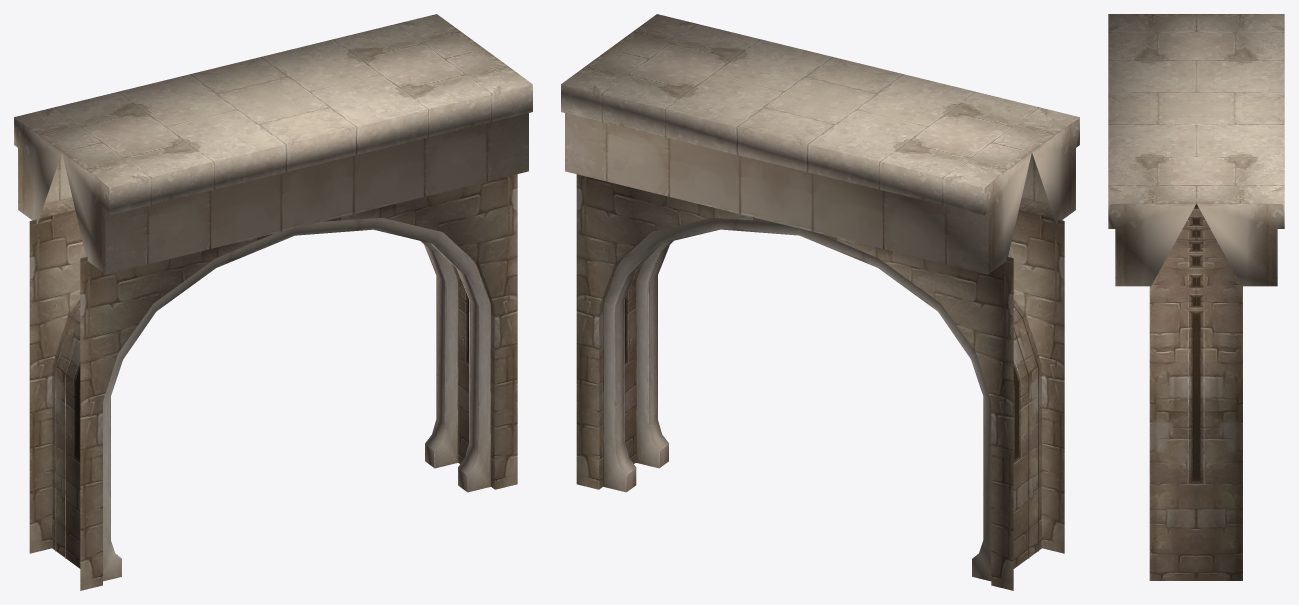
The model's file is men1.FBX.
3 views of the same model, side by side, from view 1: azimuth 30°, elevation 25°; view 2: azimuth 150°, elevation 25°; view 3: azimuth 270°, elevation 25° (orthographic). The views are drawn at different scales.
Parts seen in each view (by area): view 1: DM_damen_01; view 2: DM_damen_01; view 3: DM_damen_01.
Boxes of the visible parts, box(x1,y1,x2,y2) form: DM_damen_01: box(14, 14, 532, 590); DM_damen_01: box(561, 14, 1079, 590); DM_damen_01: box(1108, 14, 1284, 580).
Size of the model in its own units: 1502 by 1374 by 571.
